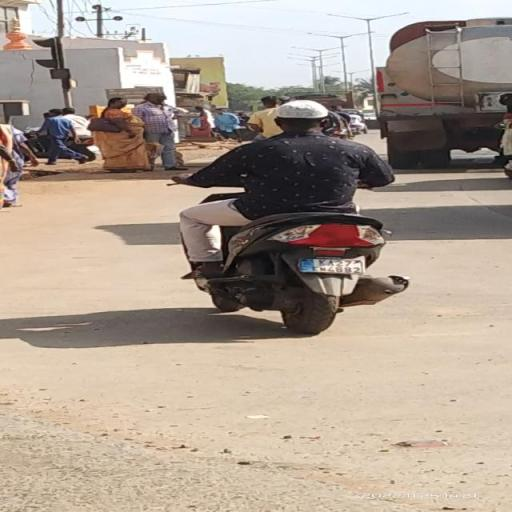bike: (160, 91, 422, 337)
numberplate: (298, 256, 366, 273)
withouthelmet: (282, 101, 327, 132)
